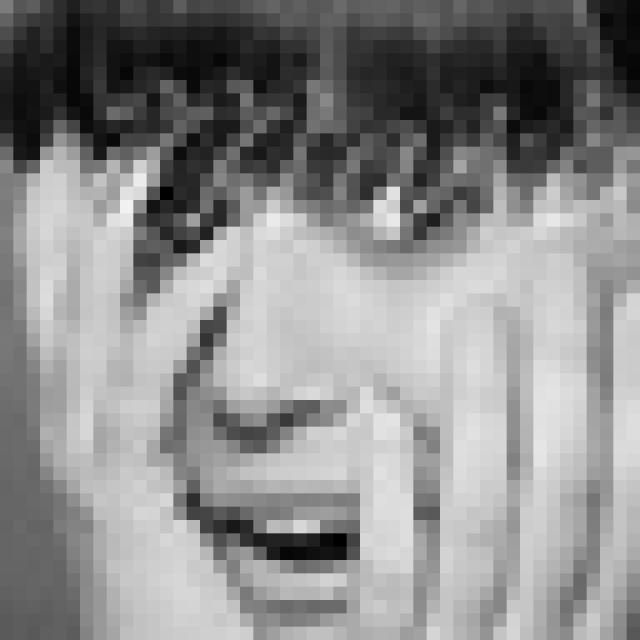fear: (135, 116, 502, 625)
